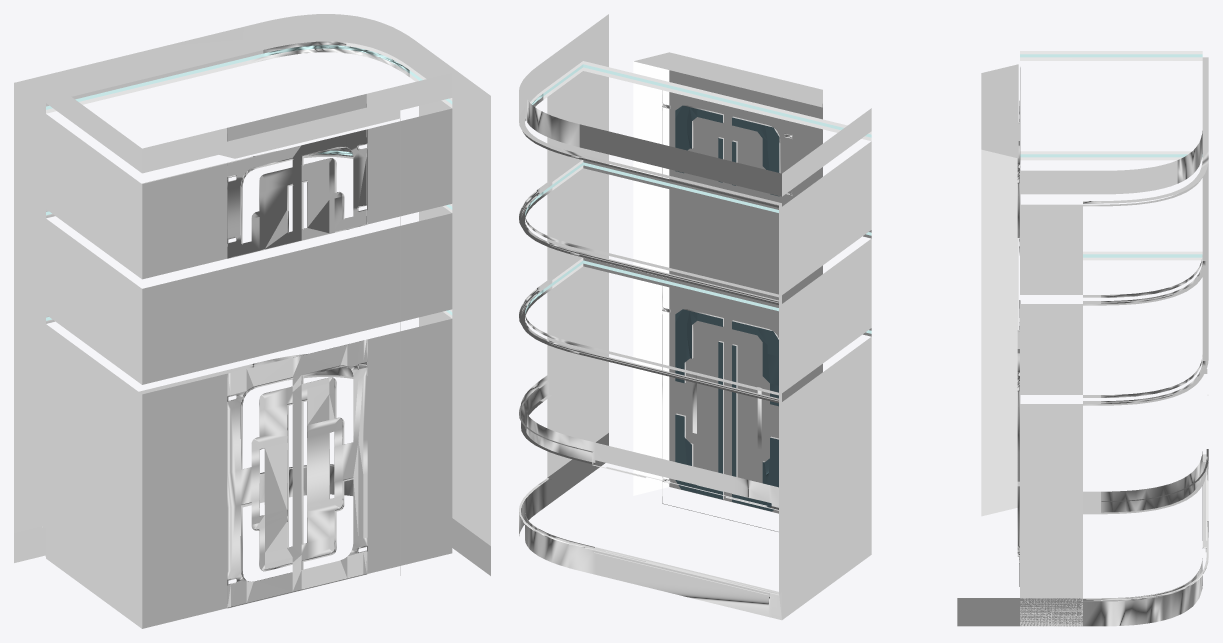
Rendered from deluxe_elevator_shaft_01.glb.
3 views of the same model, side by side, from view 1: azimuth 30°, elevation 25°; view 2: azimuth 150°, elevation 25°; view 3: azimuth 270°, elevation 25° (orthographic). The views are drawn at different scales.
Bounding box in the file's own units: 12 × 16 × 8.
